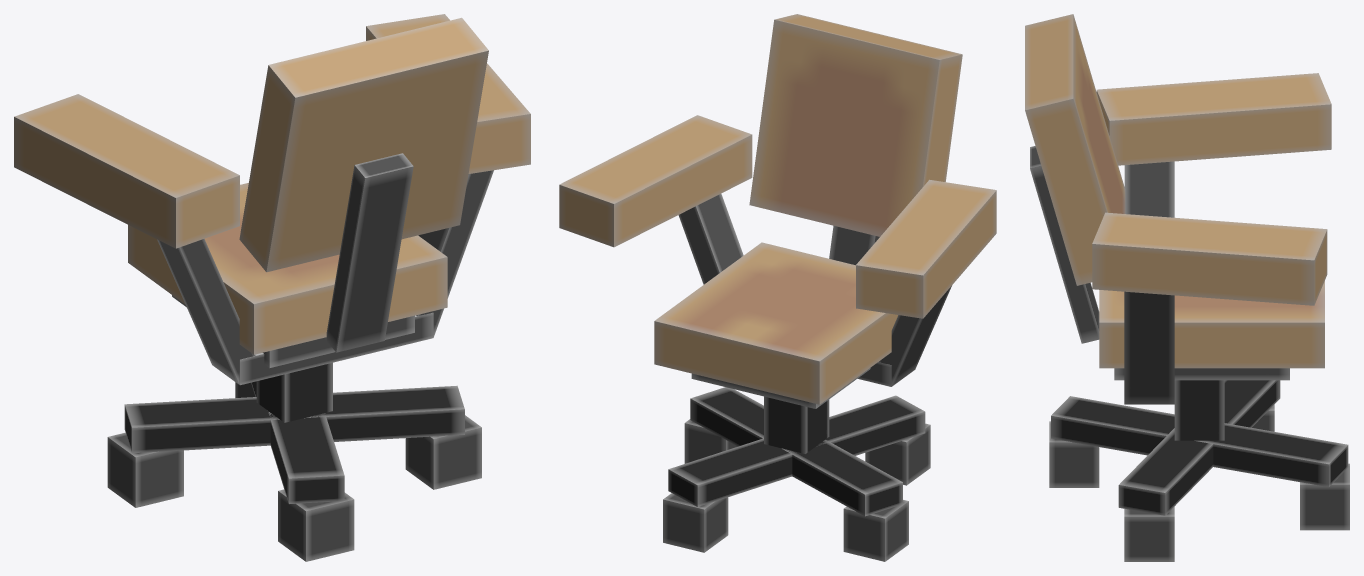
File: Office Chair.fbx
3 views of the same model, side by side, from view 1: azimuth 30°, elevation 25°; view 2: azimuth 150°, elevation 25°; view 3: azimuth 270°, elevation 25° (orthographic). The views are drawn at different scales.
Visible parts, largest first — view 1: cube; view 2: cube; view 3: cube.
Boxes of the visible parts, left/top/right/bottom form: cube: left=14, top=14, right=530, bottom=561; cube: left=559, top=14, right=996, bottom=561; cube: left=1025, top=14, right=1349, bottom=561.
Size of the model in its own units: 27.64 by 30.41 by 20.26.
Materials: 1 (1 with a texture image).
